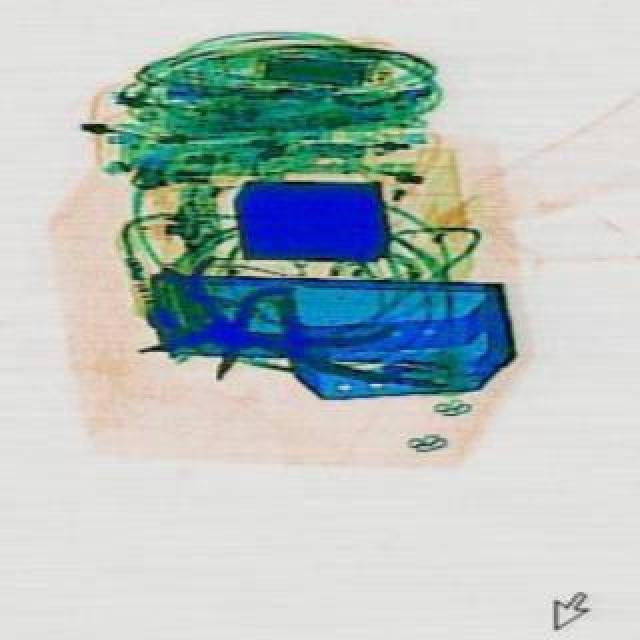wrench: (112, 206, 392, 462)
